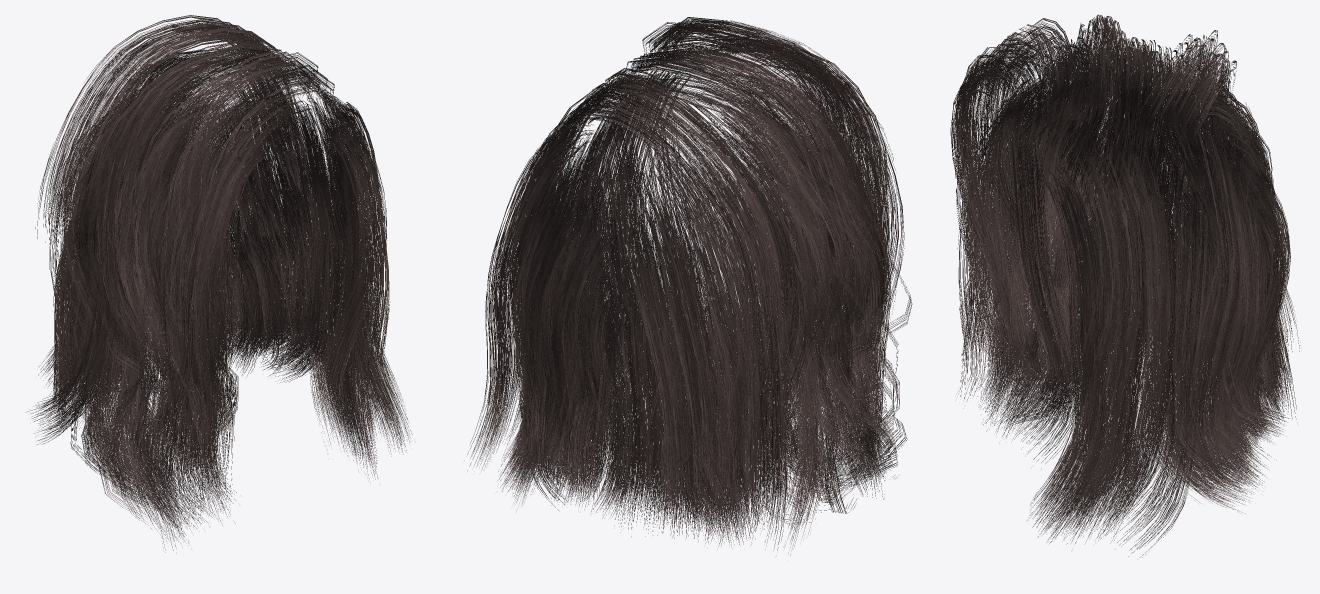
The model's file is Hair03.fbx.
The picture shows the model from 3 angles, left to right: view 1: azimuth 30°, elevation 25°; view 2: azimuth 150°, elevation 25°; view 3: azimuth 270°, elevation 25°; orthographic projection. The views are drawn at different scales.
Parts seen in each view (by area): view 1: hair3; view 2: hair3; view 3: hair3.
Boxes of the visible parts, x1=… form: hair3: x1=26, y1=15, x2=412, y2=553; hair3: x1=467, y1=17, x2=912, y2=555; hair3: x1=950, y1=14, x2=1300, y2=557.
Bounding box in the file's own units: 26.75 × 39.23 × 26.46.
1 material, 1 textured.
